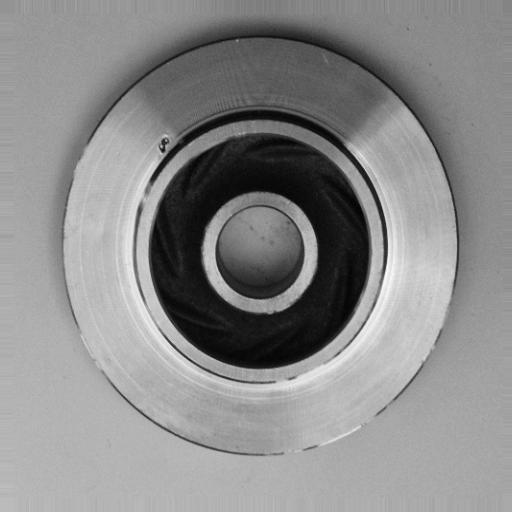crack: (150, 125, 174, 159)
scratch: (264, 358, 343, 395)
unpolished_casting: (60, 31, 459, 460)
